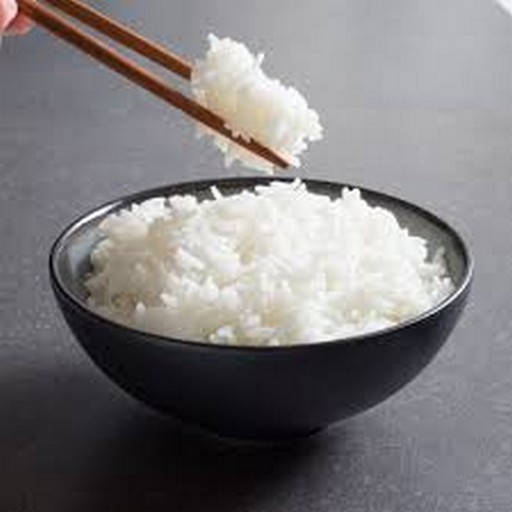rice: (130, 213, 372, 309)
